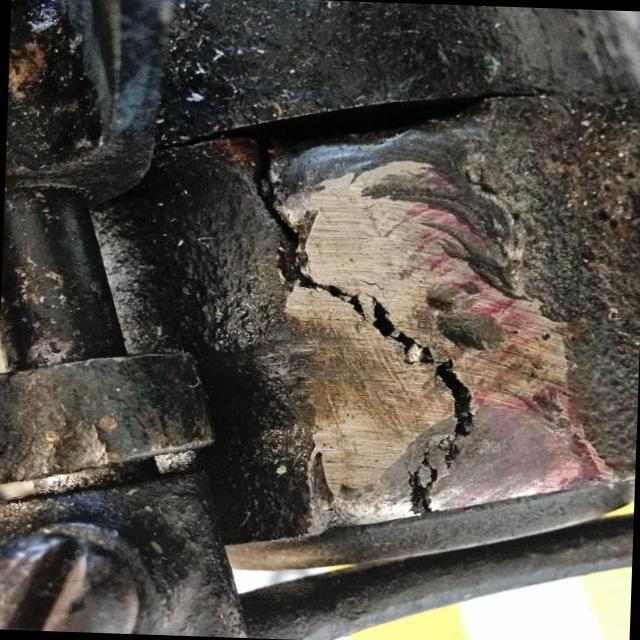defect: (243, 128, 487, 526)
